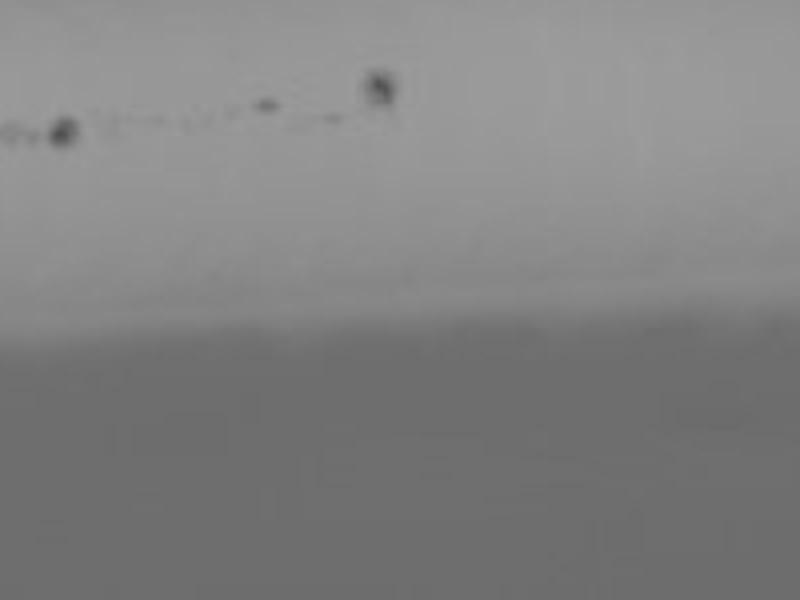defect: (359, 68, 396, 104), (49, 116, 80, 146), (253, 97, 283, 113), (2, 121, 17, 149), (20, 129, 40, 150), (321, 111, 345, 126)
